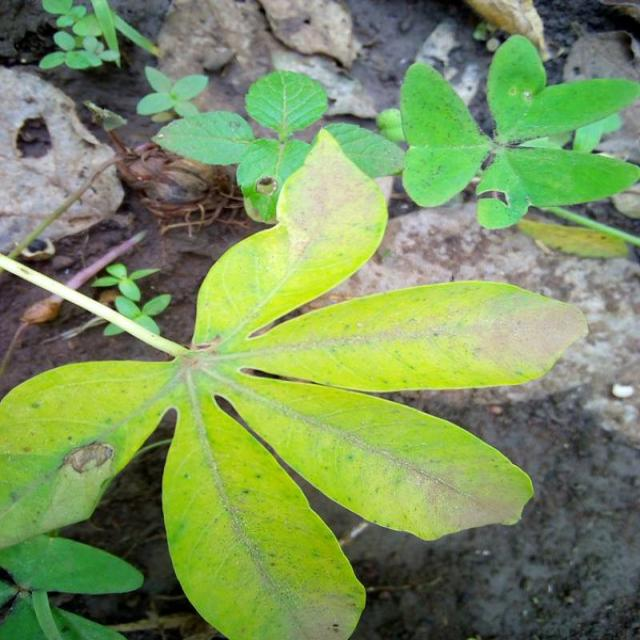cassava leaf: (0, 126, 589, 638)
